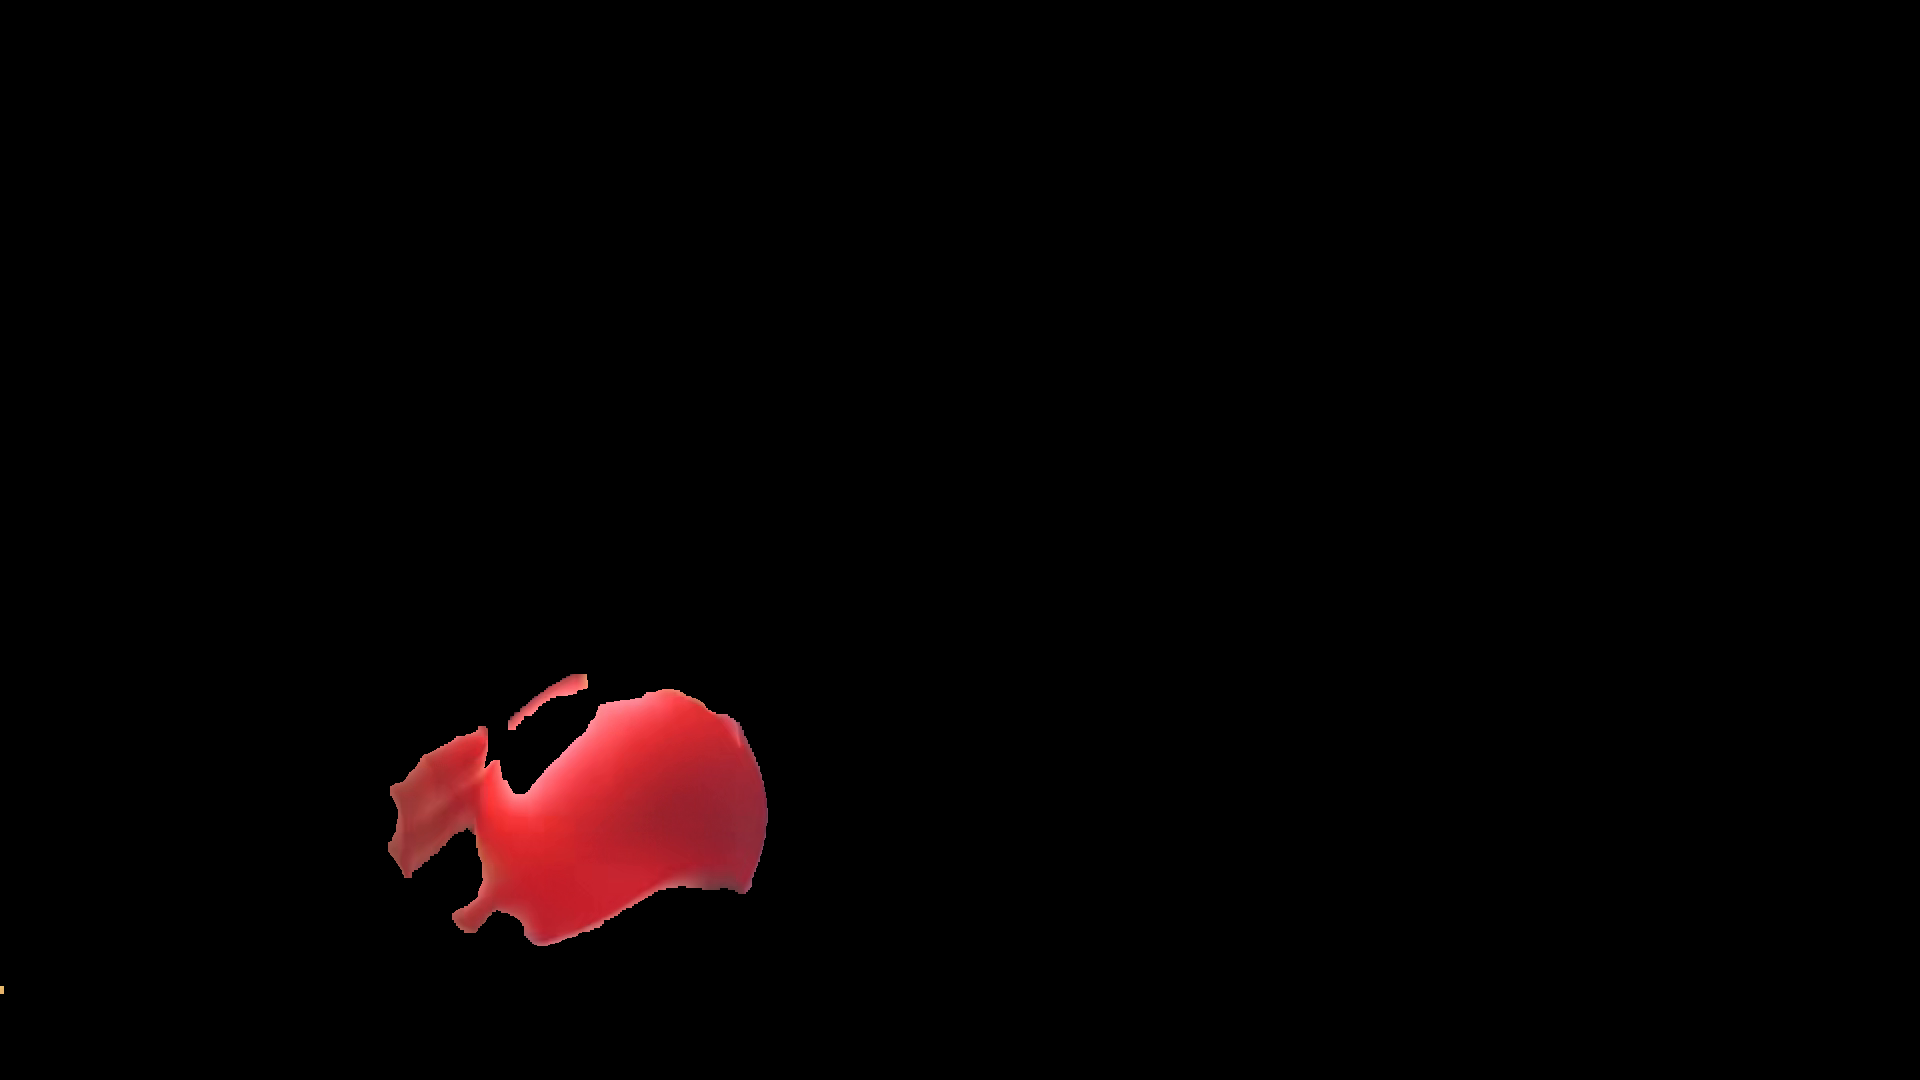Ball: (472, 680, 777, 963)
